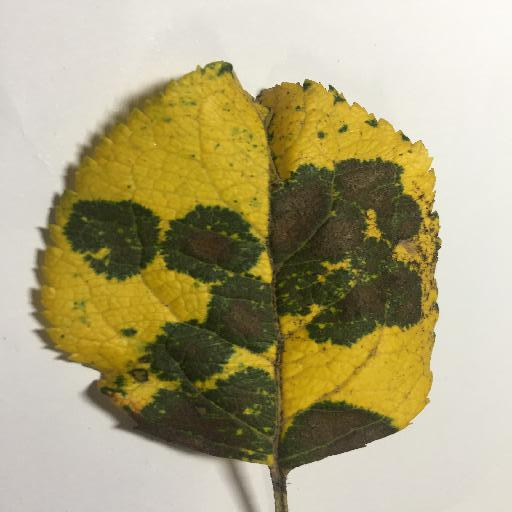Brown_Spot: (272, 176, 414, 330), (173, 398, 271, 449), (173, 221, 245, 277), (281, 411, 359, 452), (223, 297, 267, 348)
